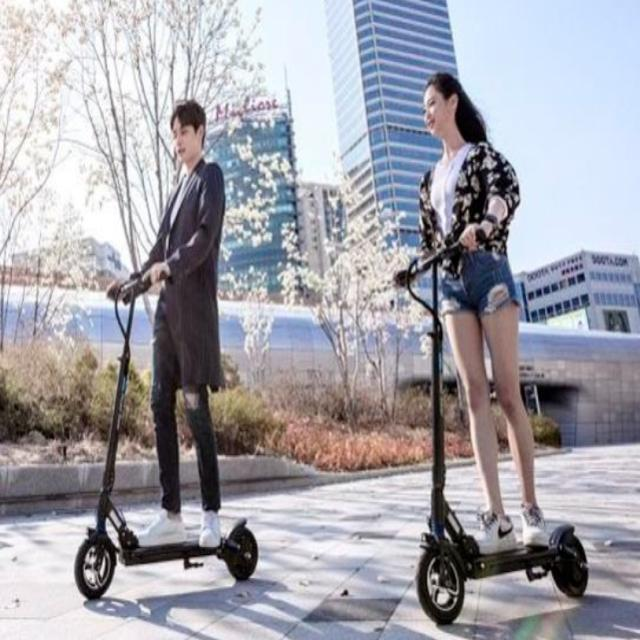non-helmet: (349, 55, 597, 620), (42, 74, 268, 617)
